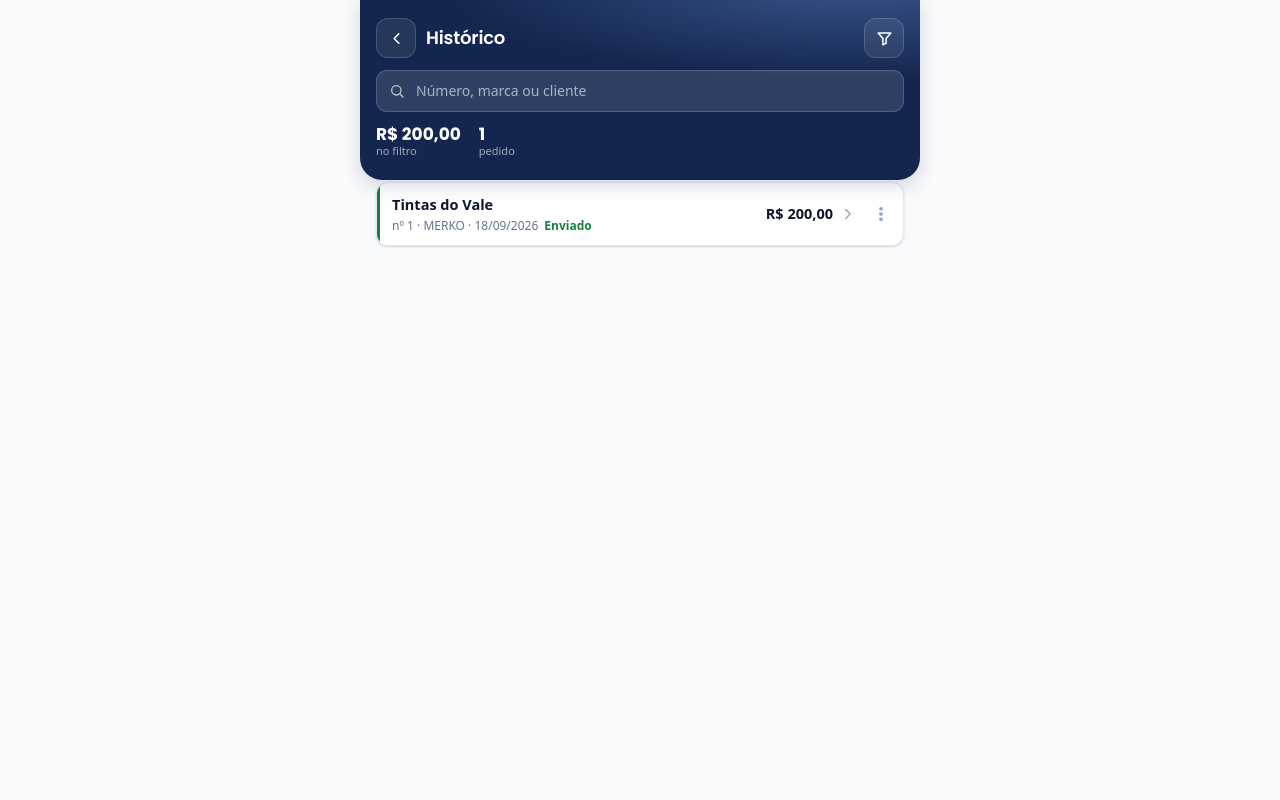
Scenario: redesenho — comportamentos novos › histórico: filtro ativo vira etiqueta removível e o menu da linha abre o pedido
Expected: the text "Tintas do Vale" is shown, x1=392 y1=194 x2=493 y2=214
Click the button named "Filtros".
click(884, 38)  # box x1=864 y1=18 x2=904 y2=58
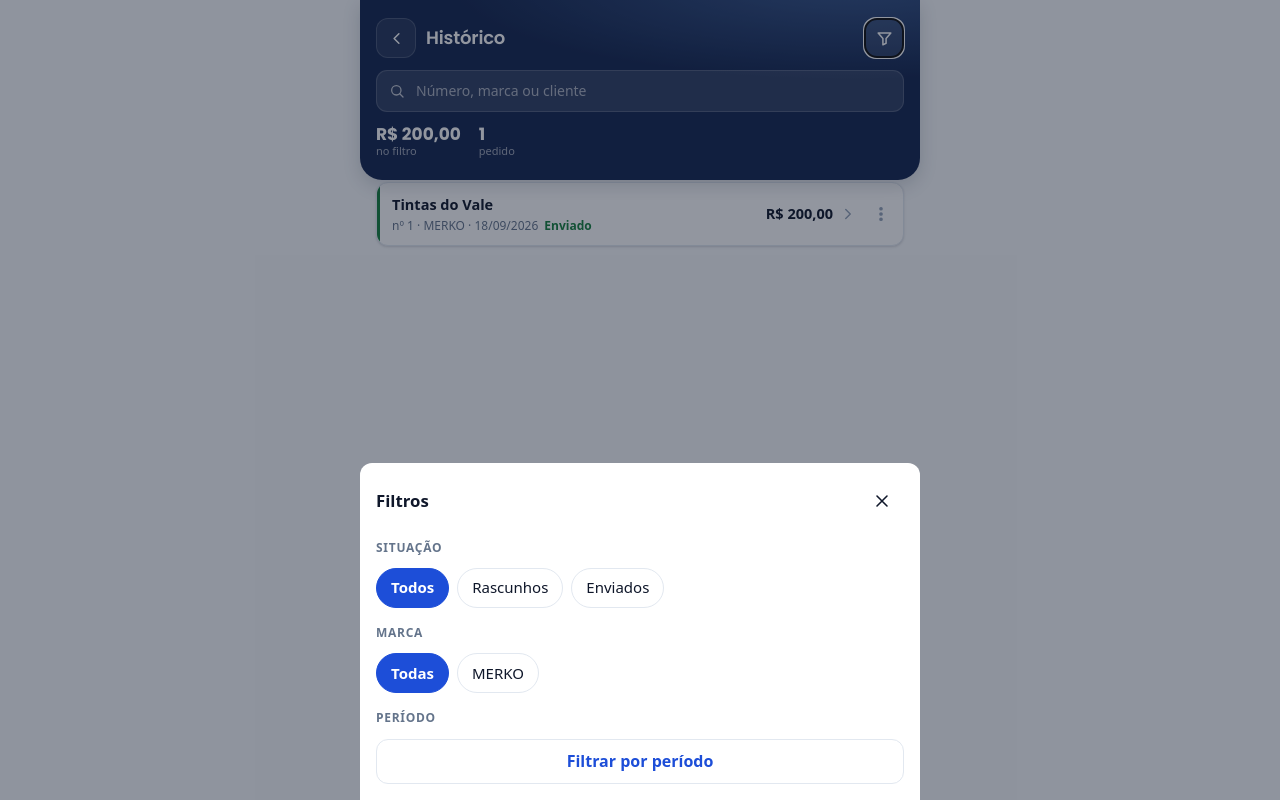
Click the button "Rascunhos".
click(510, 588)  # box x1=457 y1=568 x2=563 y2=608
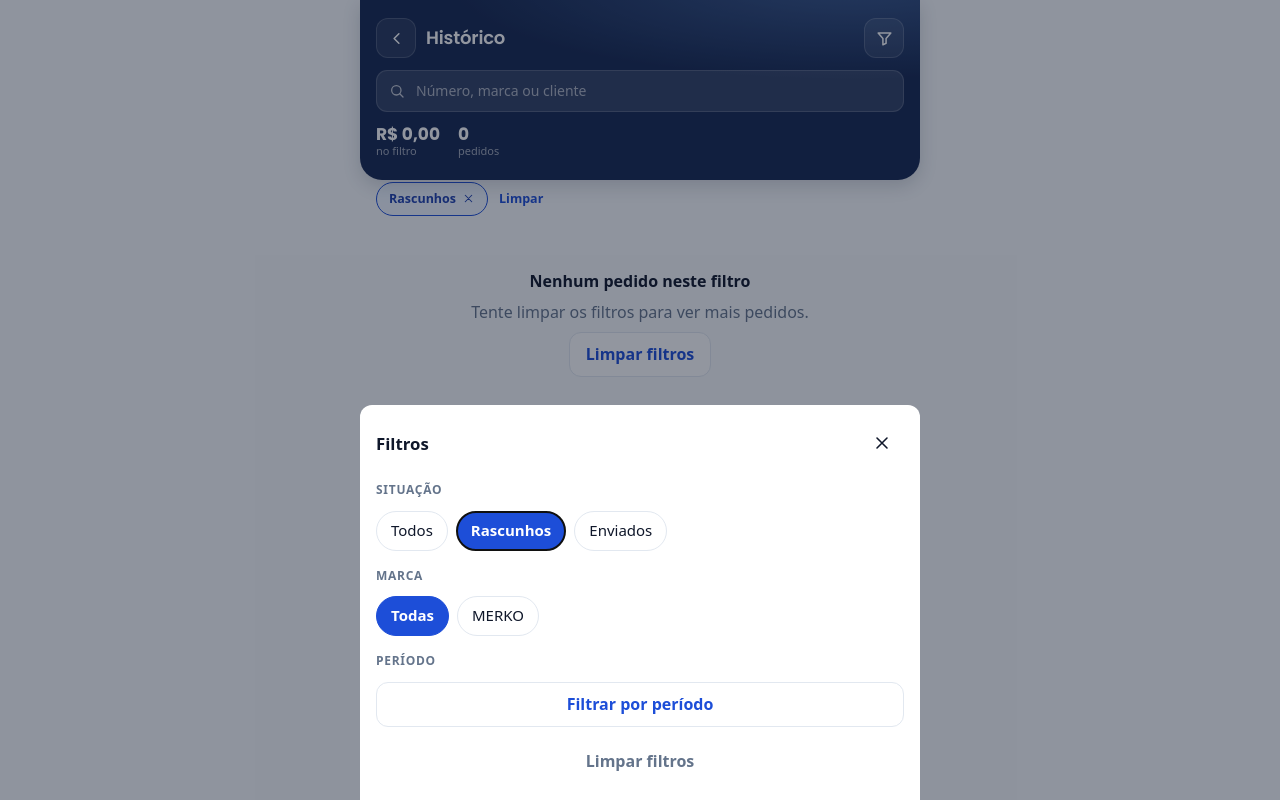
Click the button named "Fechar".
click(882, 444)  # box x1=860 y1=422 x2=904 y2=466
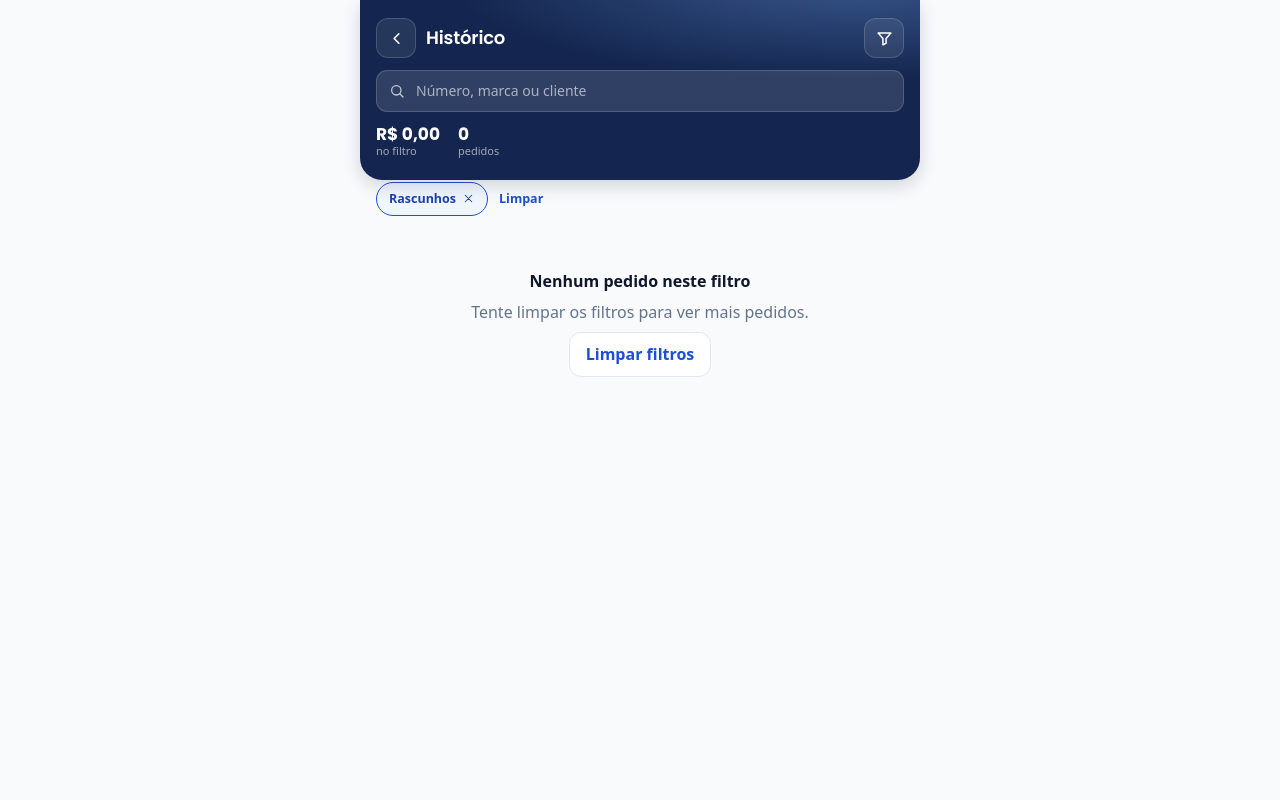
Now the text "Nenhum pedido neste filtro" is shown, box x1=530 y1=270 x2=750 y2=293
// Tocar na etiqueta limpa aquele filtro.
Click the button "Rascunhos".
click(432, 199)  # box x1=376 y1=182 x2=488 y2=216
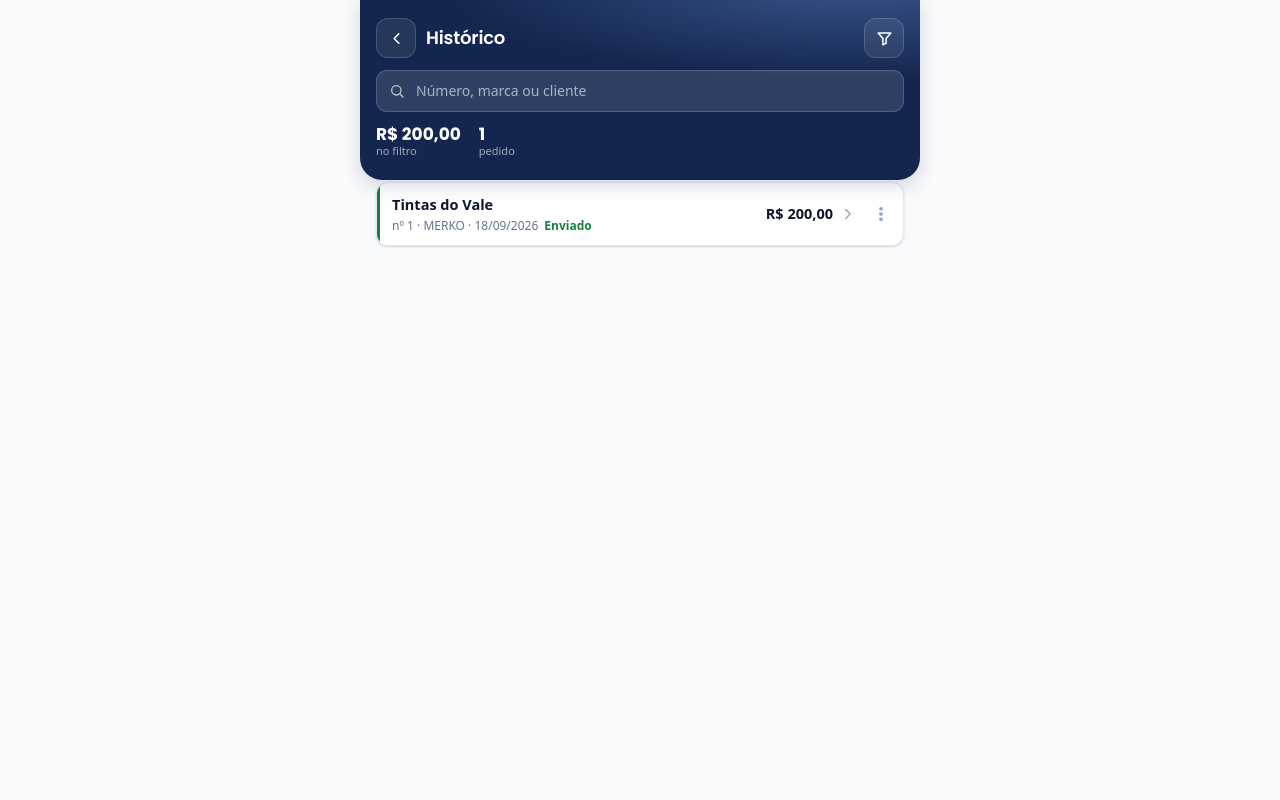
Now the text "Tintas do Vale" is shown, box x1=392 y1=194 x2=493 y2=214
